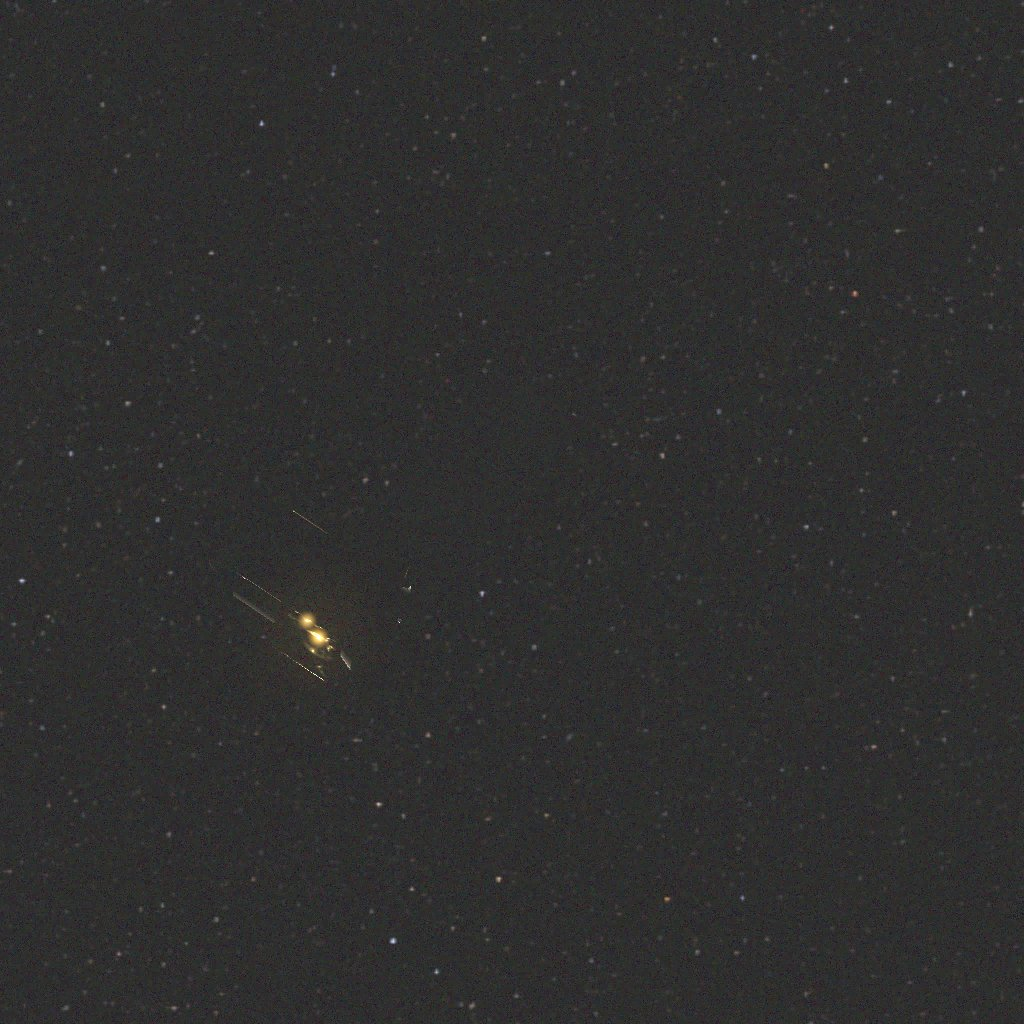earth_observation_sat_1: (210, 367, 586, 682)
